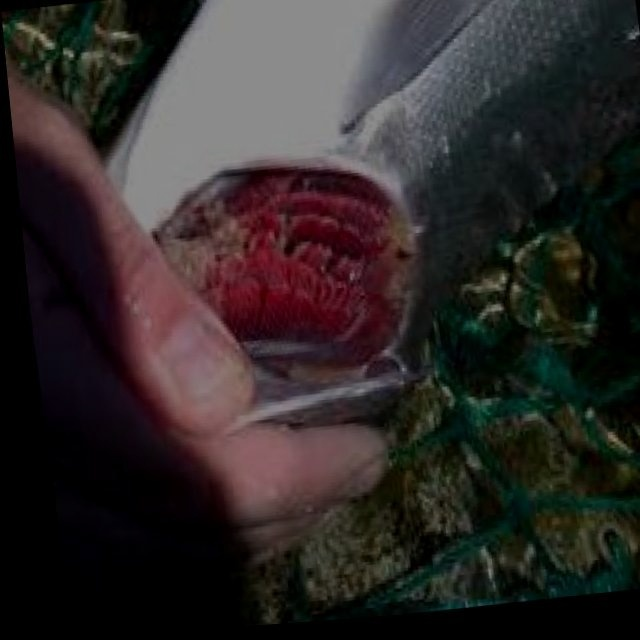Gill Disease: (108, 55, 478, 437)
